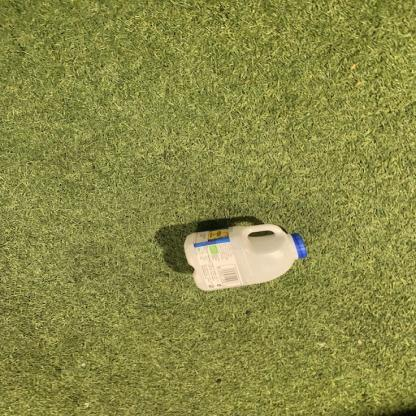trash: (184, 222, 308, 295)
